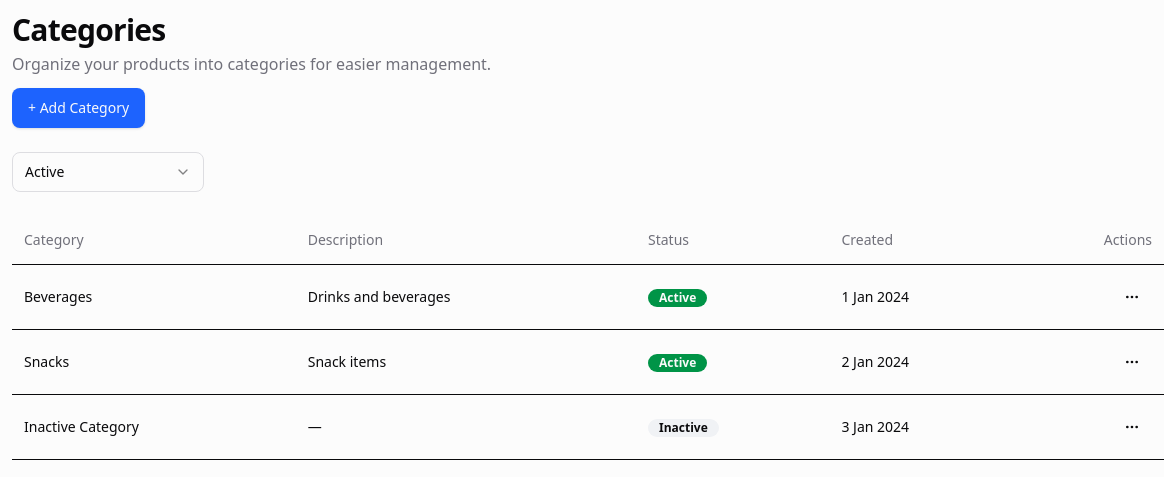
CategoriesPage › Filter options are present
What coordinates should you click on to do the following:
click the dropdown named "Filter categories"
I would click on:
 (108, 172)
Its box is [12,152,204,192].
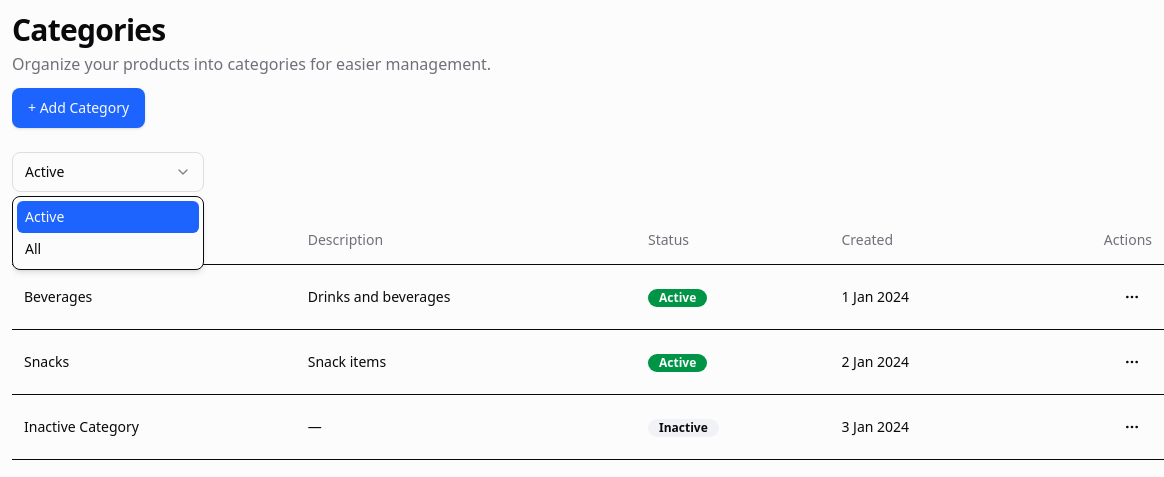
Check: the option "Active" is shown, box [17,201,199,233]
Check: the option "All" is shown, box [17,233,199,265]
